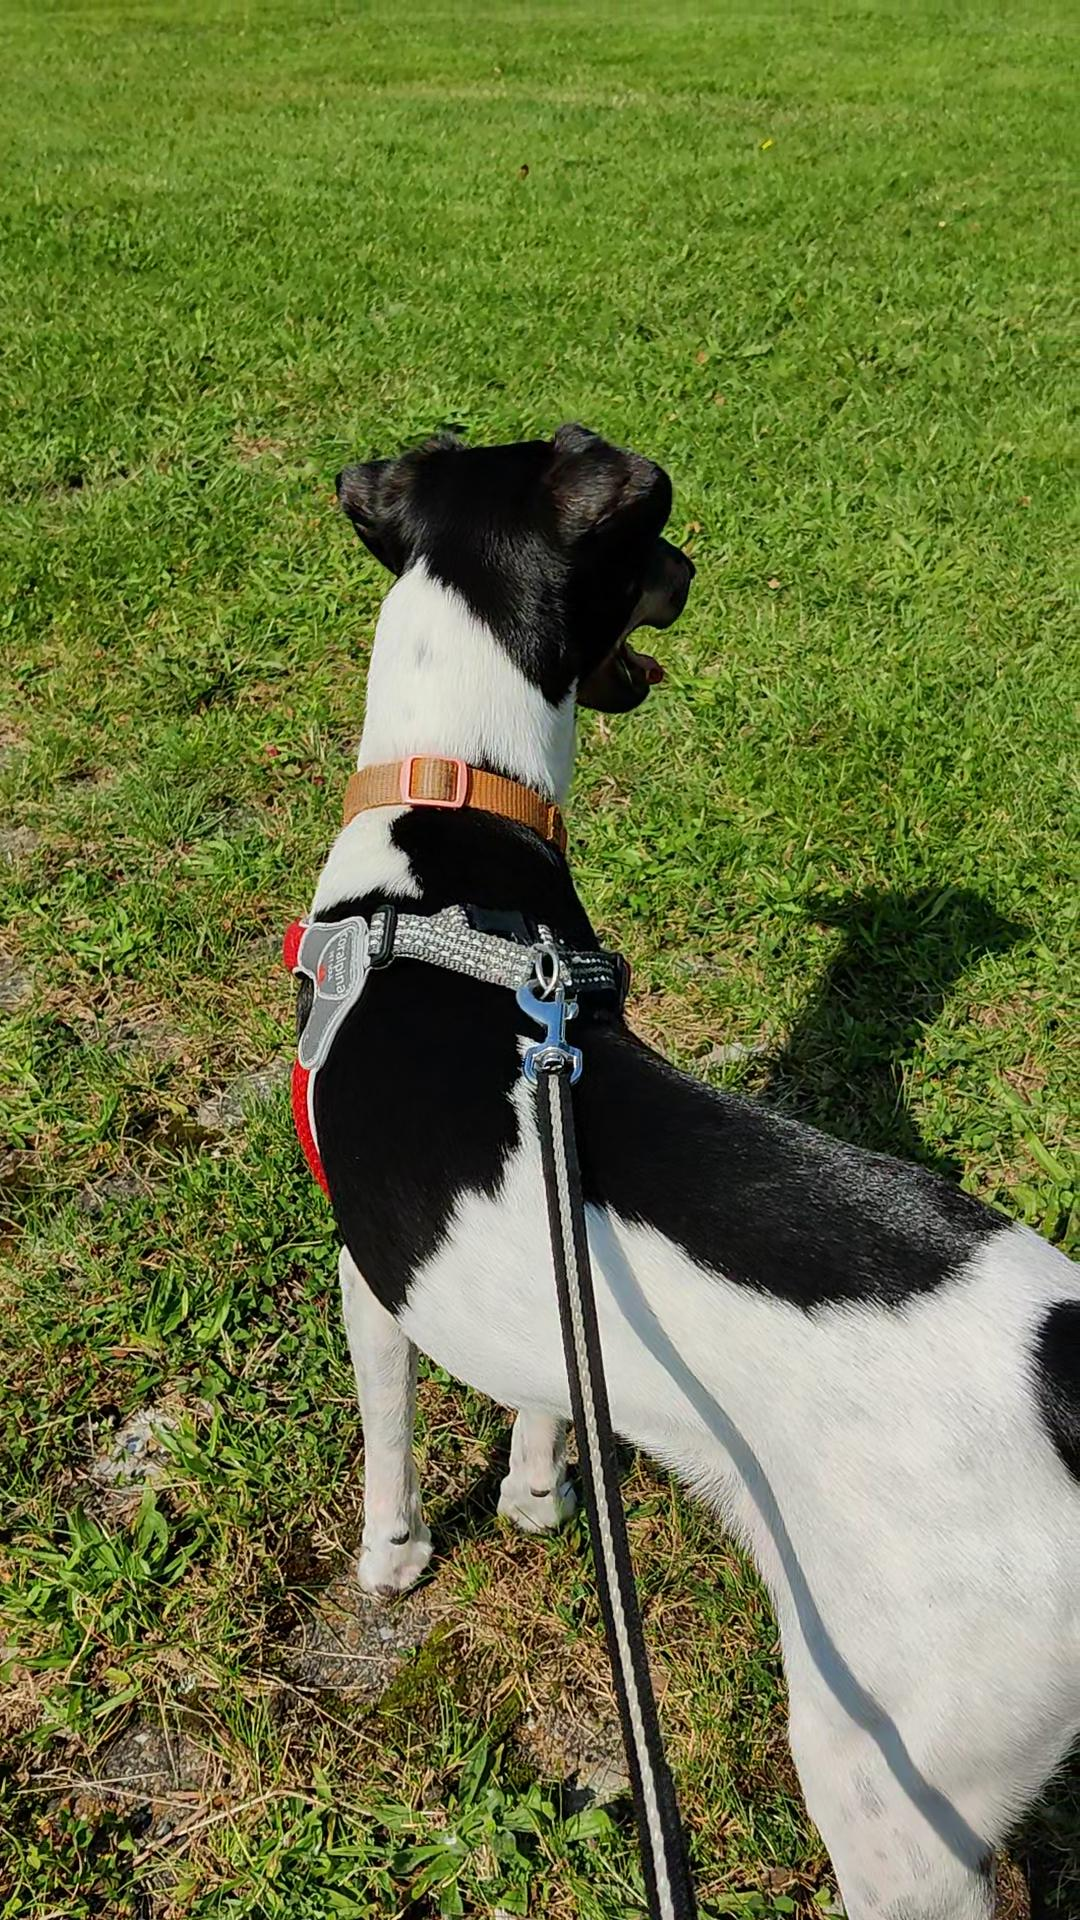Dog: (266, 413, 1079, 1919)
